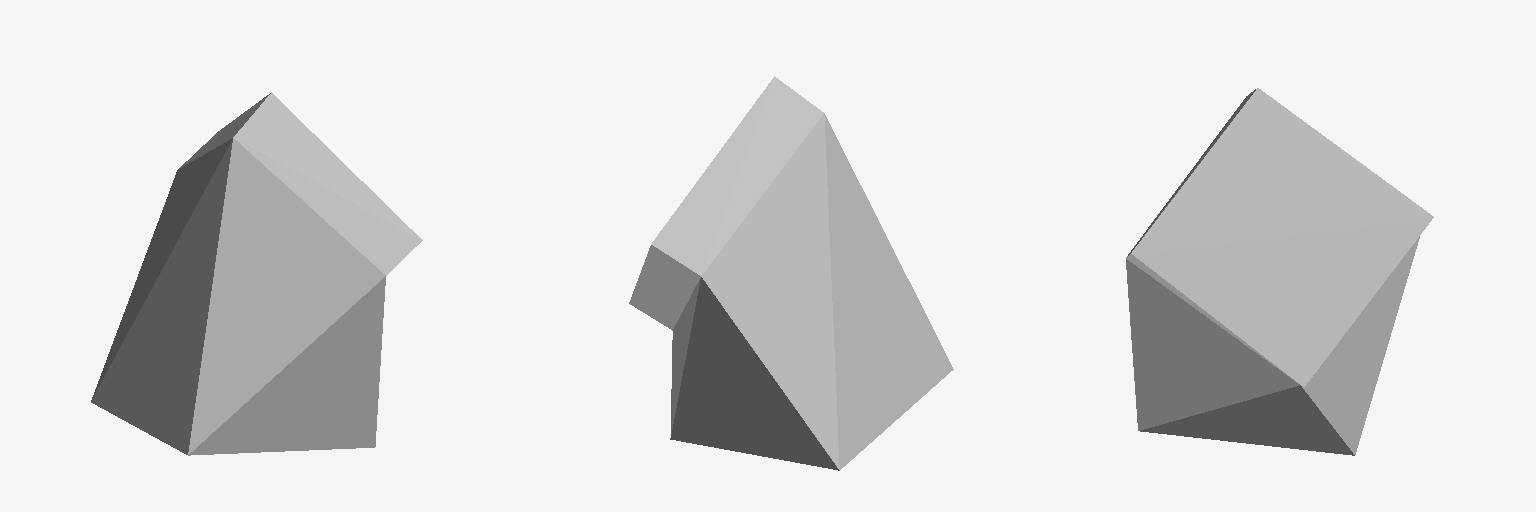
Rendered from cubeVertexAnimationFrame1.obj.
3 renders of one model, left to right at view 1: azimuth 30°, elevation 25°; view 2: azimuth 150°, elevation 25°; view 3: azimuth 270°, elevation 25°, orthographic.
Visible parts, largest first — view 1: Cube_Cube.001; view 2: Cube_Cube.001; view 3: Cube_Cube.001.
Boxes of the visible parts, x1=… form: Cube_Cube.001: x1=91, y1=92, x2=422, y2=455; Cube_Cube.001: x1=629, y1=76, x2=953, y2=470; Cube_Cube.001: x1=1126, y1=88, x2=1433, y2=455.
Size of the model in its own units: 2.64 by 3.39 by 2.78.